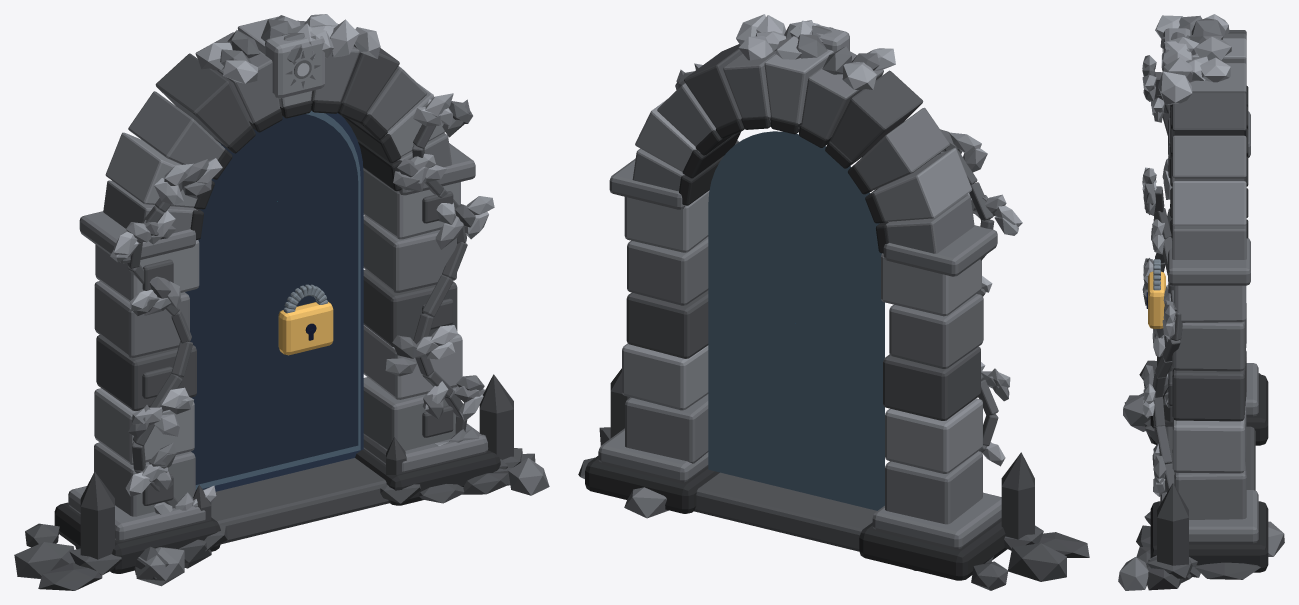
Rendered from portal_bosque.glb.
The picture shows the model from 3 angles, left to right: view 1: azimuth 30°, elevation 25°; view 2: azimuth 150°, elevation 25°; view 3: azimuth 270°, elevation 25°; orthographic projection. The views are drawn at different scales.
Parts seen in each view (by area): view 1: Piedra gris, Interior apagado, Malla candado, Superficie apagada, Contorno apagado; view 2: Piedra gris, Contorno apagado; view 3: Piedra gris, Malla candado.
Part boxes in pixels (x1,y1,x2,y2): Piedra gris: (14, 14, 549, 590); Interior apagado: (185, 114, 358, 484); Malla candado: (278, 284, 333, 355); Superficie apagada: (195, 113, 363, 491); Contorno apagado: (195, 110, 360, 489); Piedra gris: (578, 14, 1089, 590); Contorno apagado: (708, 131, 884, 510); Piedra gris: (1118, 14, 1284, 590); Malla candado: (1146, 259, 1165, 328).
Size of the model in its own units: 8.37 by 8.14 by 2.61.
